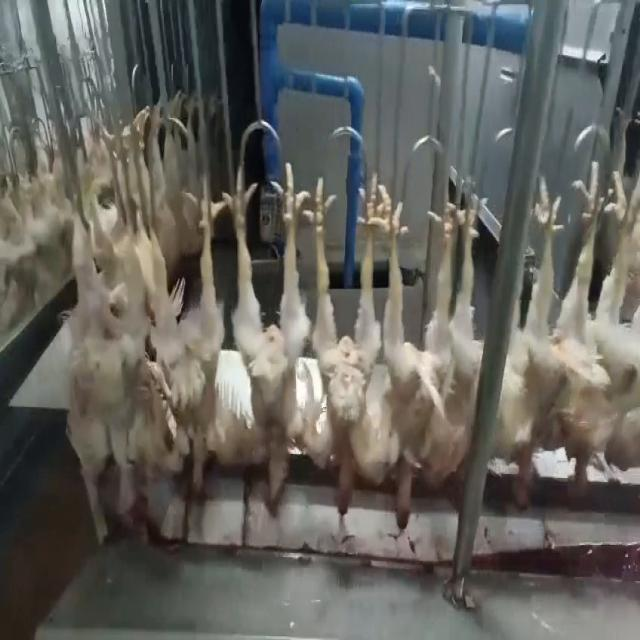chicken: (297, 172, 386, 524), (391, 203, 485, 530), (222, 166, 308, 503), (138, 173, 223, 498), (62, 183, 138, 531), (496, 187, 574, 514), (564, 160, 636, 496)
